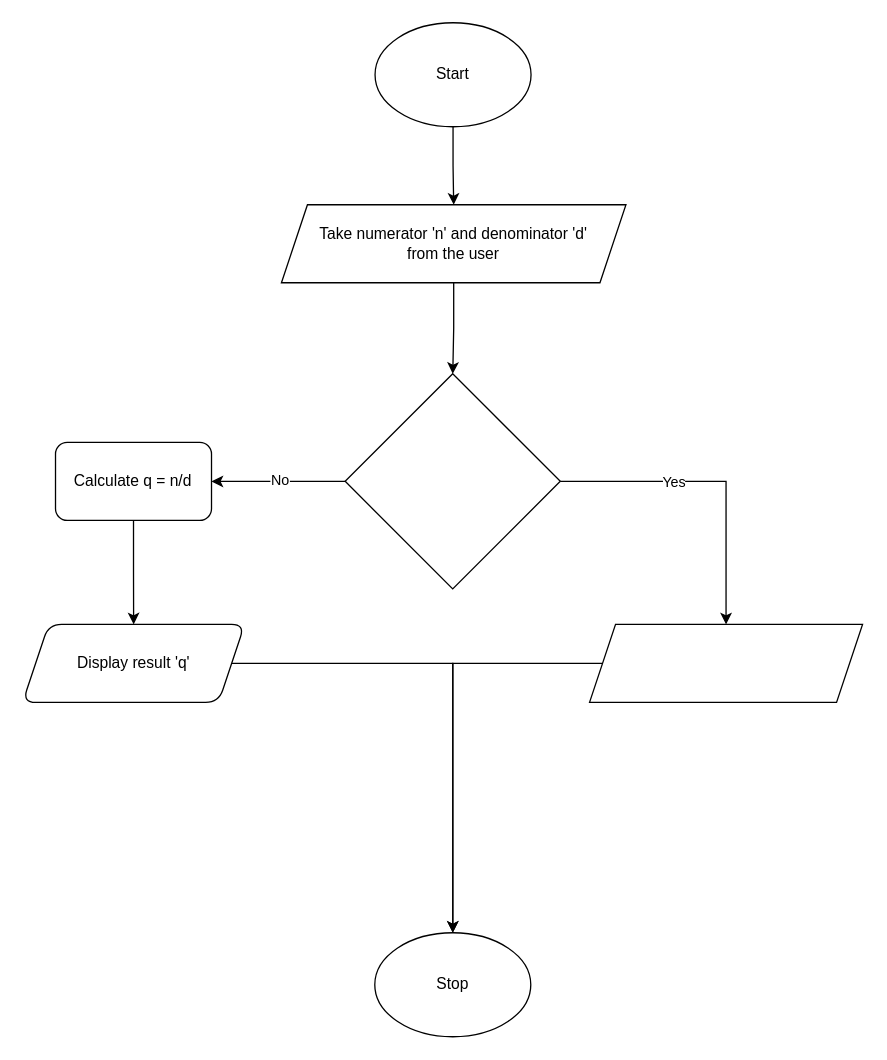
The diagram is 887 pixels wide and 1060 high, and some of its shapes have lost their labels. Here are the shapes that lost their labels. From the top down, the centre of each, then its label:
the point at 452,480: Is d=0?
the point at 725,662: Display "denominator cannot be zero"
